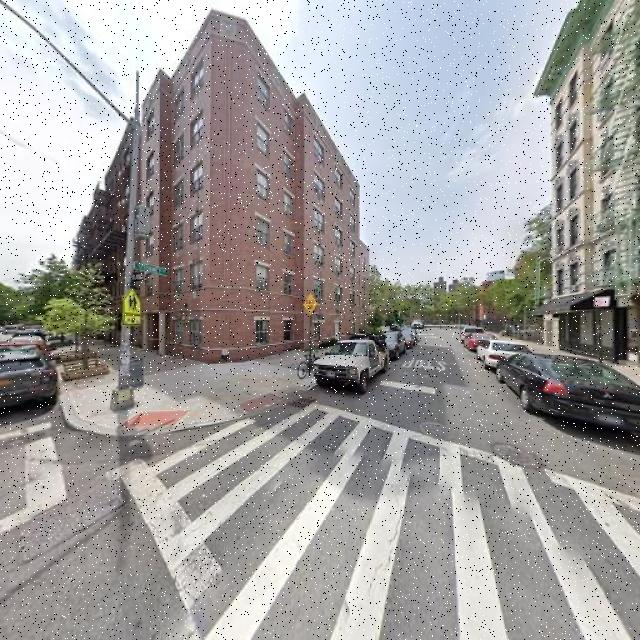Building: (124, 1, 297, 367), (557, 1, 640, 364), (302, 88, 368, 349)
